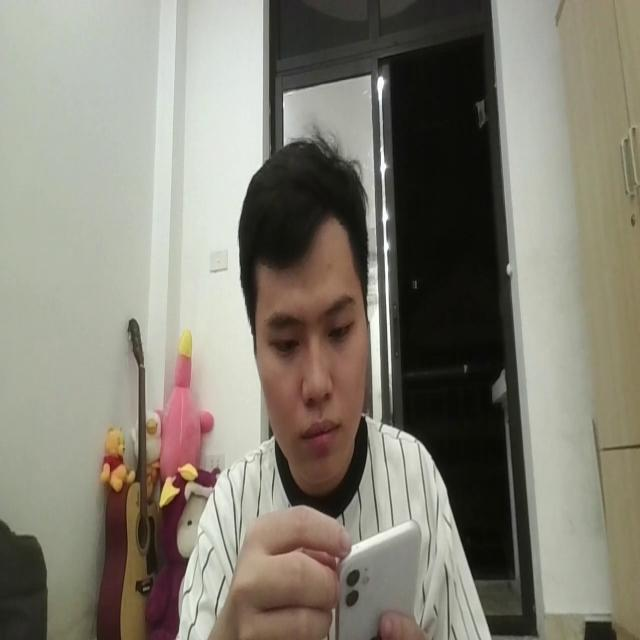phone: (335, 513, 421, 640)
student: (181, 129, 491, 640)
